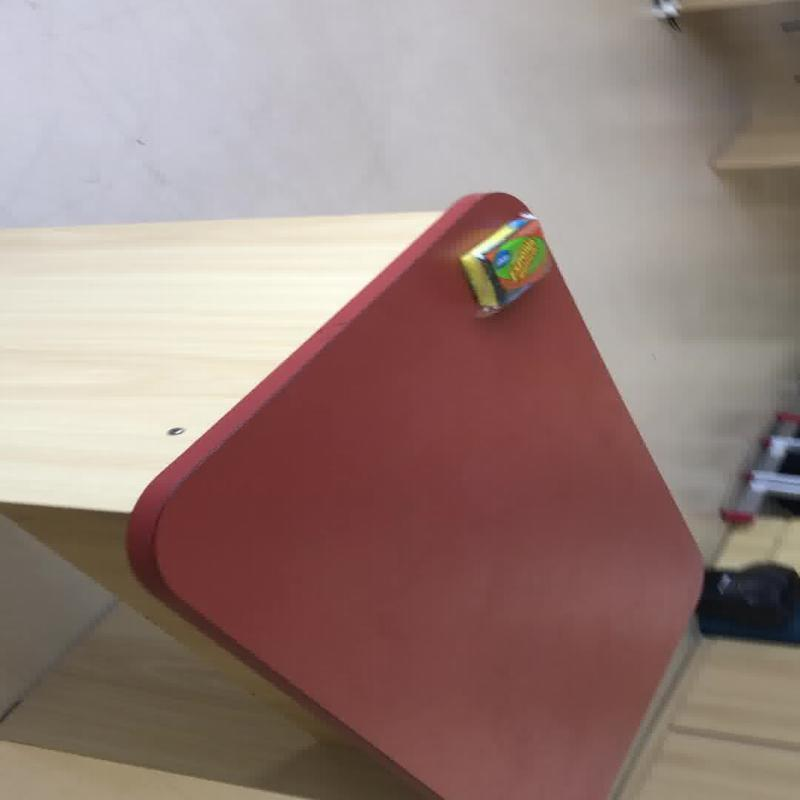sponge: (124, 190, 706, 798), (456, 213, 552, 316)
